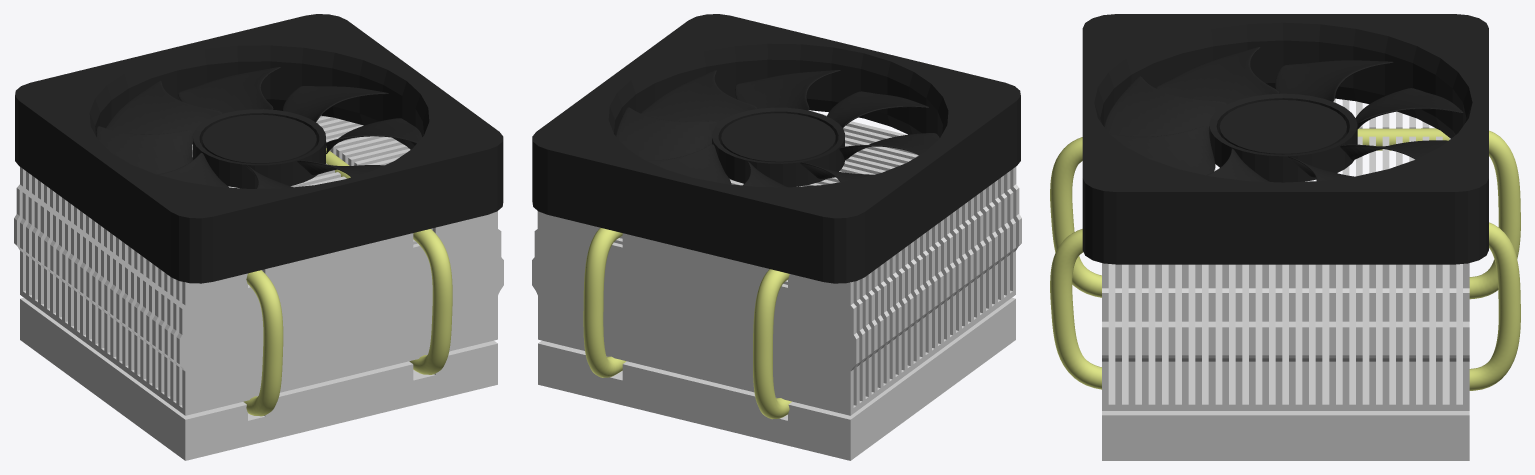
File: CPU_Cooler.fbx
3 renders of one model, left to right at view 1: azimuth 30°, elevation 25°; view 2: azimuth 150°, elevation 25°; view 3: azimuth 270°, elevation 25°, orthographic. The views are drawn at different scales.
Parts seen in each view (by area): view 1: CPU Cooler.001, Fan.003, Fan.002, BezierCircle; view 2: CPU Cooler.001, Fan.003, Fan.002, BezierCircle; view 3: Fan.003, CPU Cooler.001, Fan.002, BezierCircle.
Boxes of the visible parts, x1,y1,x2,y2 form: CPU Cooler.001: (14,115,503,460); Fan.003: (15,14,503,283); Fan.002: (96,67,422,188); BezierCircle: (243,148,452,416); CPU Cooler.001: (532,113,1021,460); Fan.003: (532,14,1020,283); Fan.002: (616,70,939,187); BezierCircle: (583,227,791,419); Fan.003: (1082,14,1488,264); CPU Cooler.001: (1102,98,1469,460); Fan.002: (1104,47,1463,181); BezierCircle: (1050,128,1520,390).
Bounding box in the file's own units: 94.83 × 67.85 × 106.
